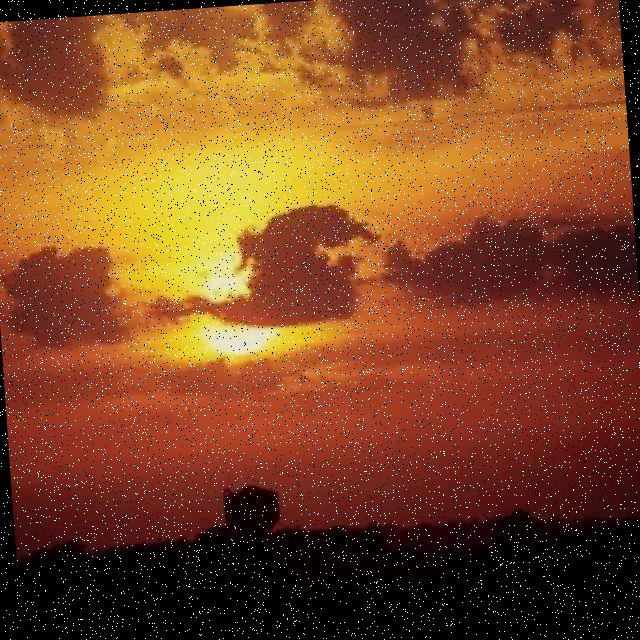Ac: (1, 1, 640, 445)
